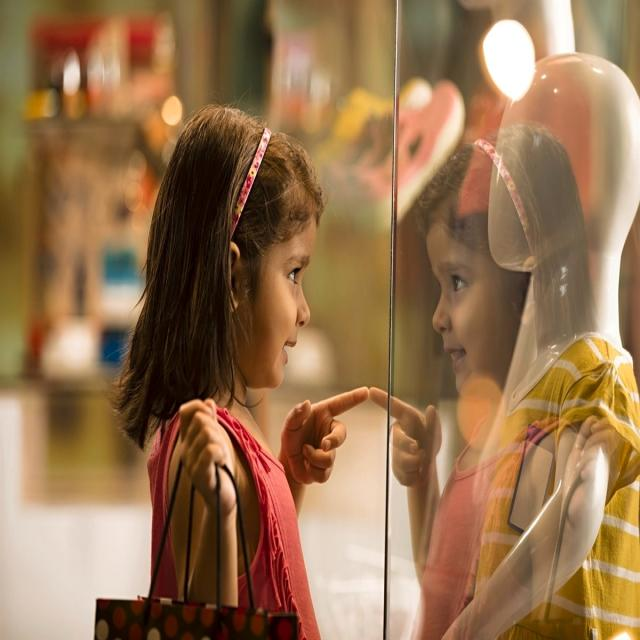child: (112, 99, 370, 640), (371, 114, 596, 640)
